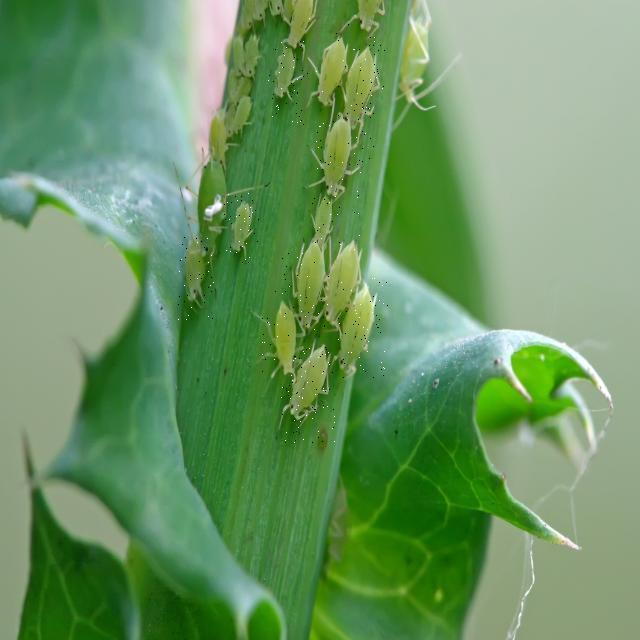aphid: (316, 103, 376, 197), (281, 344, 335, 444), (338, 277, 388, 381), (261, 288, 315, 377), (280, 244, 332, 331), (319, 224, 367, 316), (306, 18, 350, 98), (344, 37, 386, 119), (302, 191, 359, 248), (268, 37, 304, 127), (178, 234, 214, 320), (223, 192, 260, 264), (203, 111, 237, 176)
